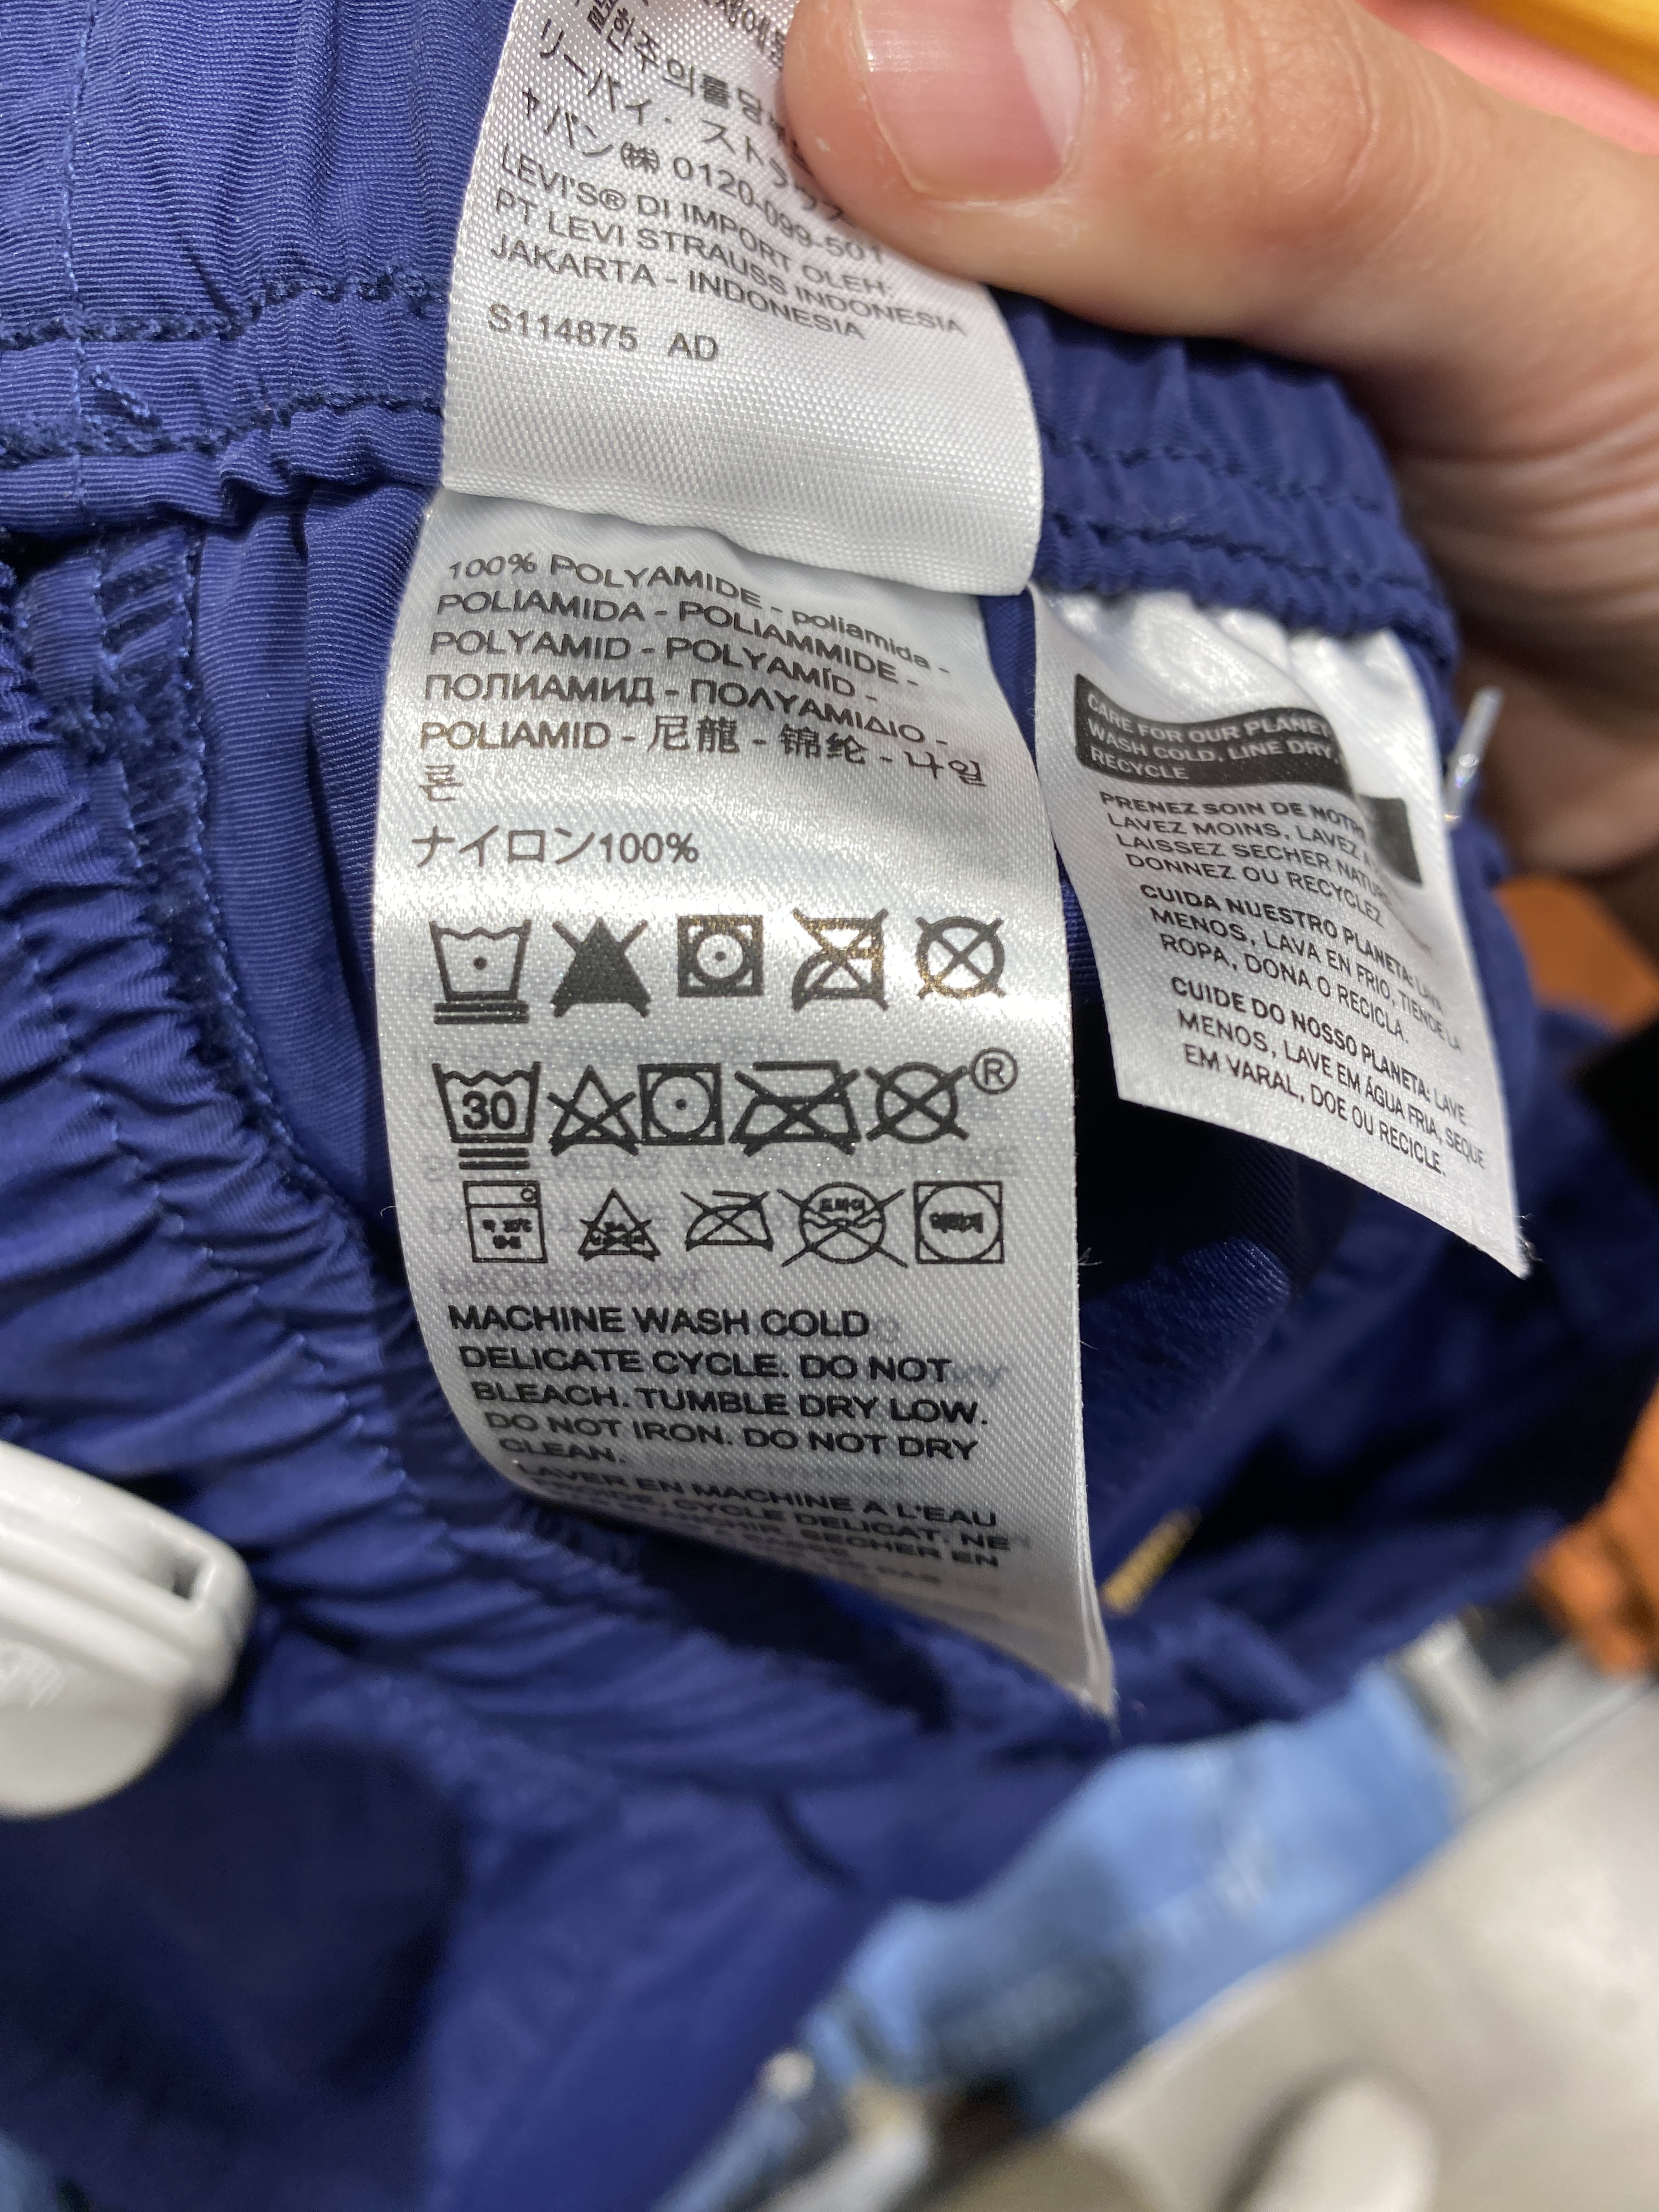tag: (361, 474, 1124, 1730)
